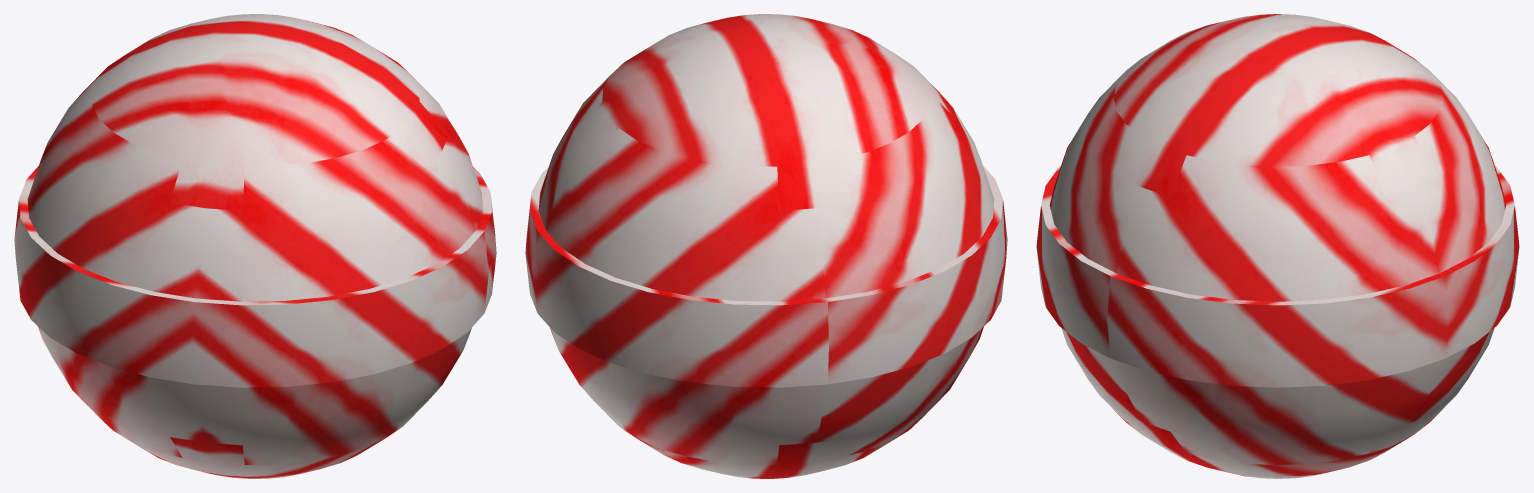
The model's file is Loli-Gestreift-Rot-Kugel-CW.gltf.
3 renders of one model, left to right at view 1: azimuth 30°, elevation 25°; view 2: azimuth 150°, elevation 25°; view 3: azimuth 270°, elevation 25°, orthographic.
Visible parts, largest first — view 1: Loli-Gestreift-Rot-Kugel-CW; view 2: Loli-Gestreift-Rot-Kugel-CW; view 3: Loli-Gestreift-Rot-Kugel-CW.
Part boxes in pixels (x1,y1,x2,y2): Loli-Gestreift-Rot-Kugel-CW: [14, 14, 496, 478]; Loli-Gestreift-Rot-Kugel-CW: [525, 14, 1007, 478]; Loli-Gestreift-Rot-Kugel-CW: [1036, 14, 1519, 478].
Size of the model in its own units: 2.08 by 2 by 2.08.
Materials: 1 (1 with a texture image).
